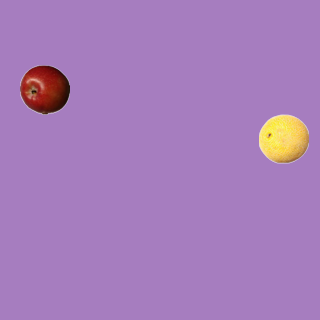Apple Braeburn: (19, 64, 69, 114)
Cantaloupe 1: (258, 113, 308, 163)
